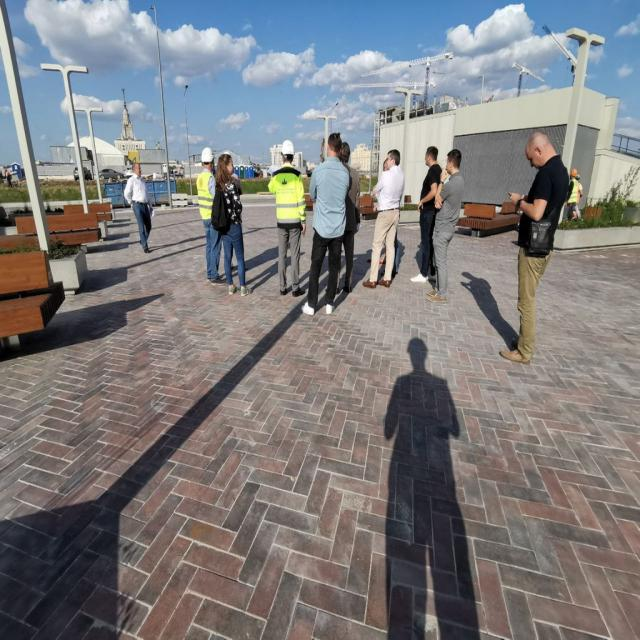Helmet: (281, 141, 296, 166), (200, 149, 217, 170), (571, 169, 579, 181)
NoHelmet: (522, 133, 557, 171), (327, 133, 344, 161), (217, 155, 236, 179), (447, 149, 464, 174), (387, 149, 403, 171), (425, 146, 440, 167), (340, 143, 354, 163), (133, 163, 144, 180), (383, 161, 389, 172)
